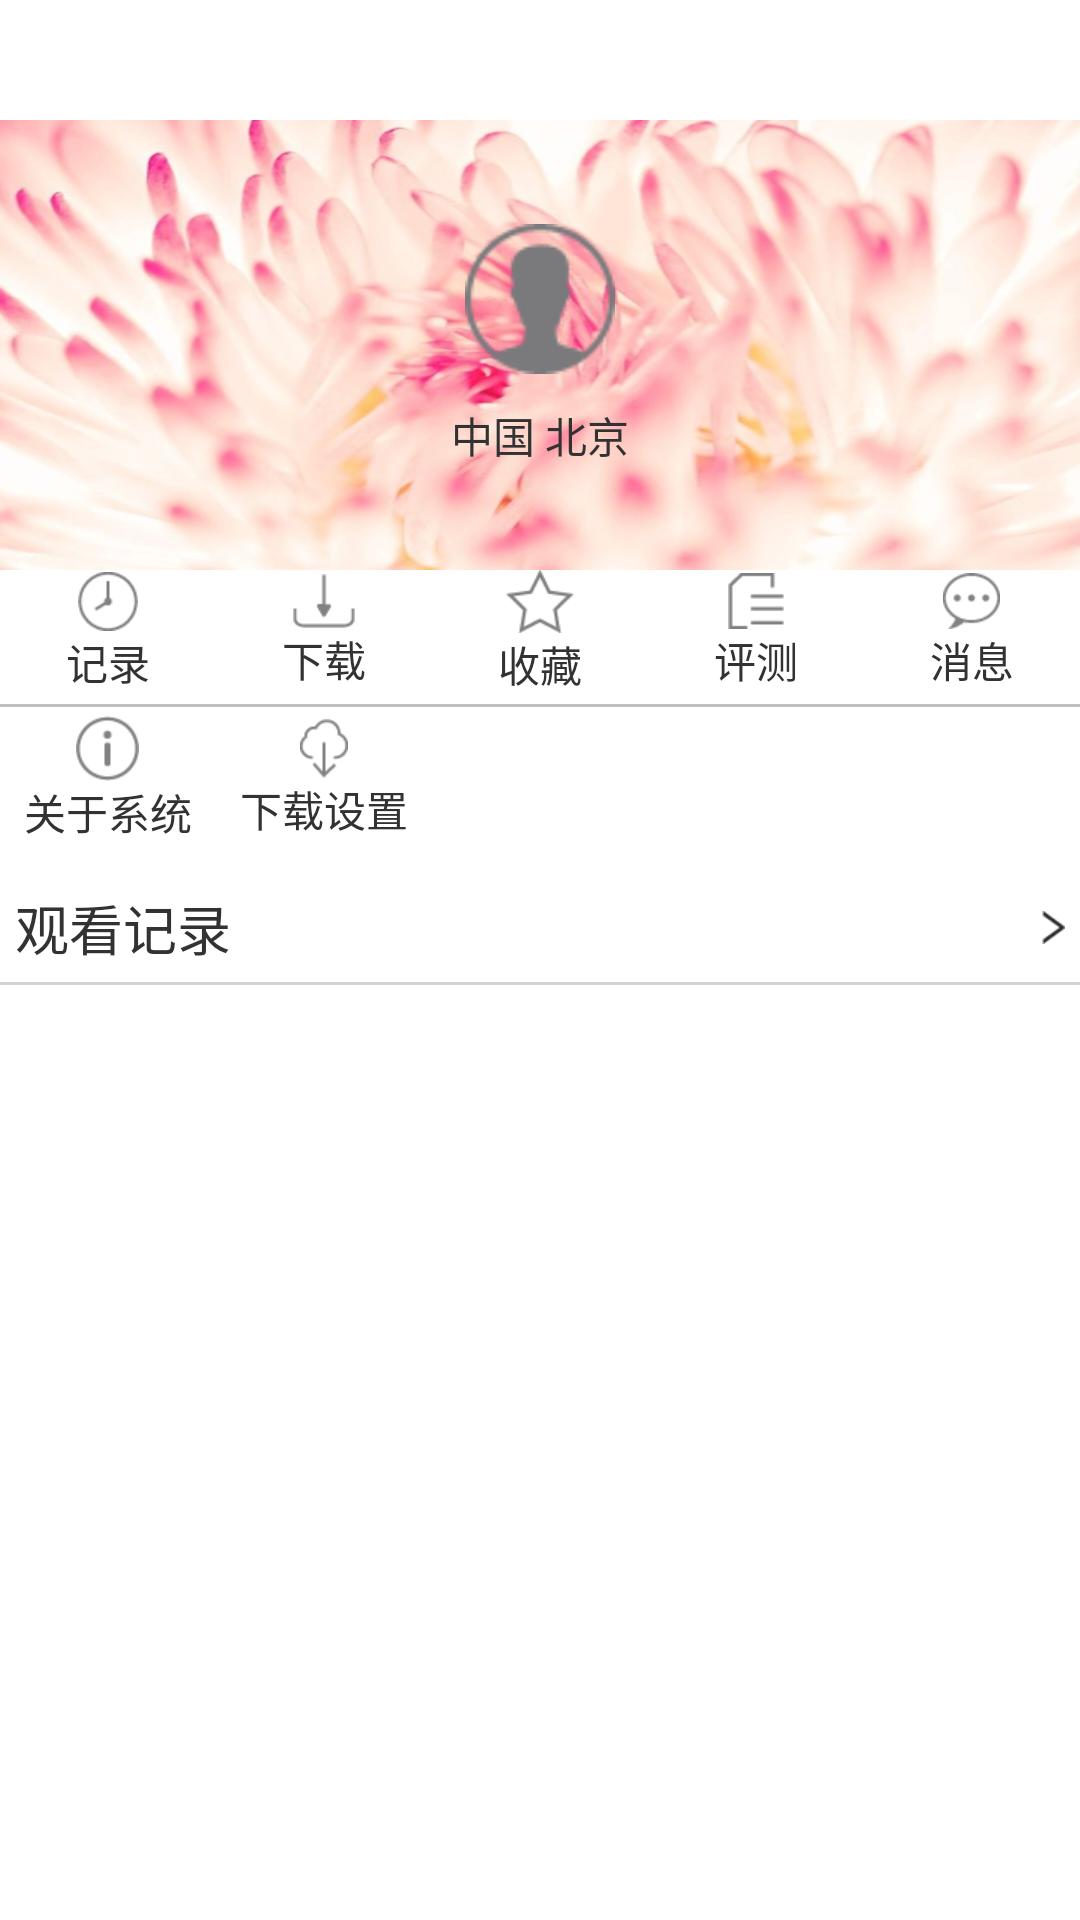

Where to tap for icons on this 1080 × 1920 app screen, as (x,y):
personal un sel: (540,299)
